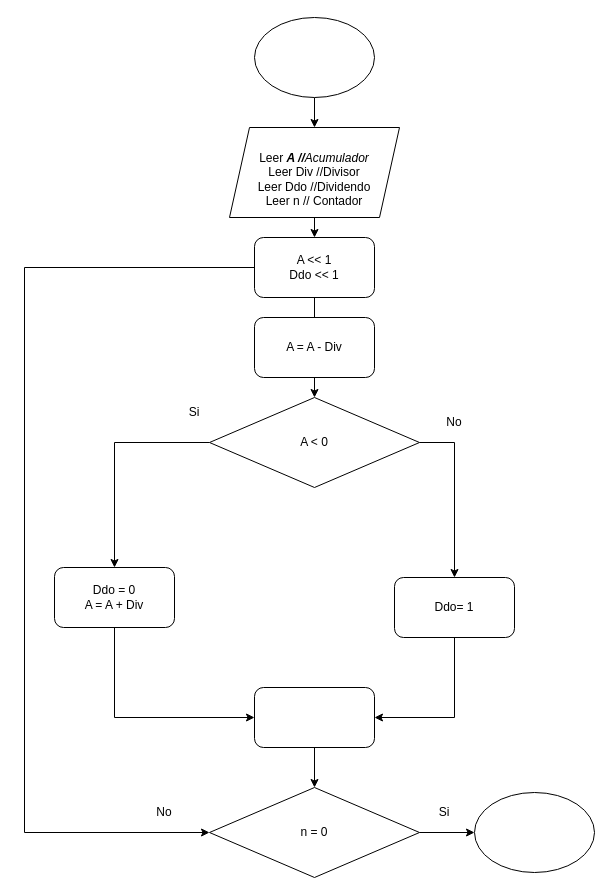
The diagram is 612 pixels wide and 895 high, and some of its shapes have lost their labels. Each missing label, with the centre of its shape:
Fin: the point at 534,832
Inicio: the point at 314,57
n = n - 1: the point at 314,717
